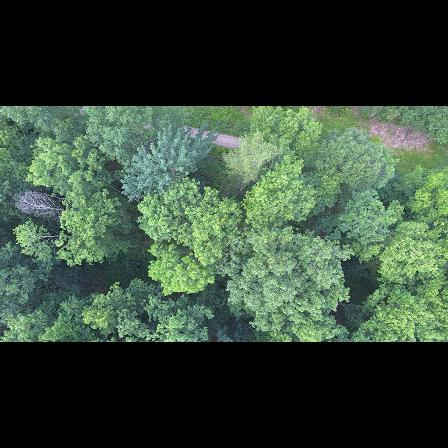Dead: (10, 188, 67, 222)
